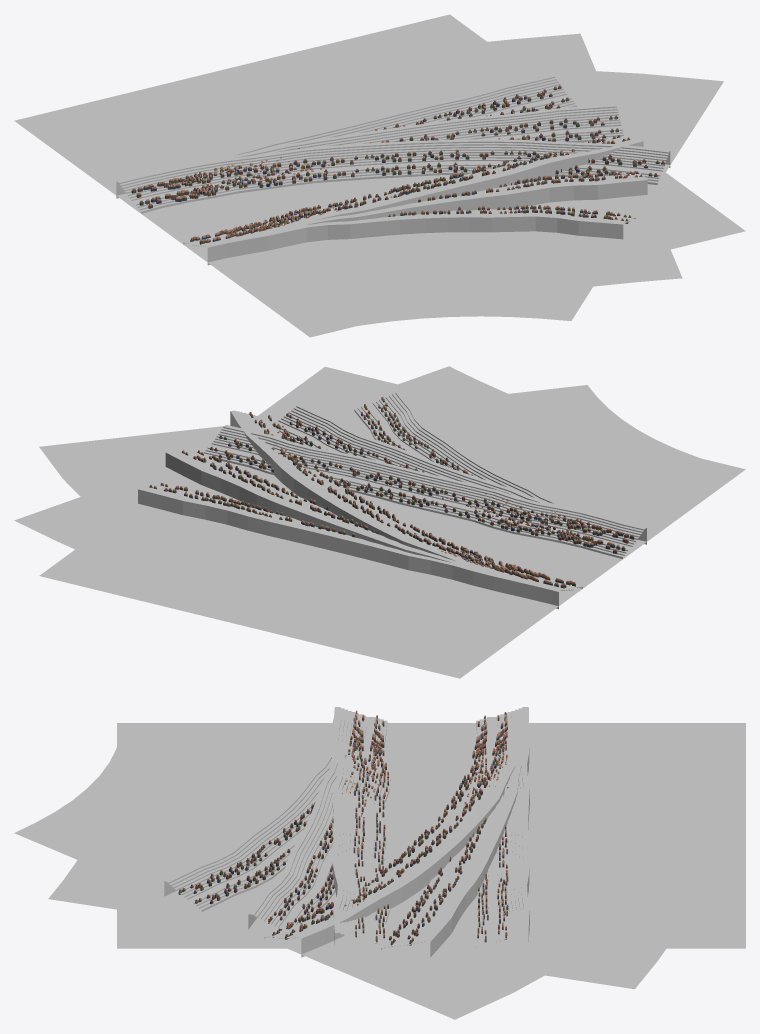
Rendered from SimplePatches.FBX.
3 views of the same model, one above another, from view 1: azimuth 30°, elevation 25°; view 2: azimuth 150°, elevation 25°; view 3: azimuth 270°, elevation 25° (orthographic). The views are drawn at different scales.
Visible parts, largest first — view 1: Plane-45Deg001, Plane-Simple_003, Plane-Simple_02, Stage-45Deg001, Stage-Straight001, Stage-Straight, Road45Deg001, Audience-45Deg001, Audience-Straight, Audience-Straight001, RoadSimple-003, RoadSimple-02; view 2: Plane-45Deg001, Plane-Simple_02, Plane-Simple_003, Stage-Straight, Stage-45Deg001, Stage-Straight001, Audience-Straight, Road45Deg001, Audience-45Deg001, Audience-Straight001, RoadSimple-02, RoadSimple-003; view 3: Plane-45Deg001, Plane-Simple_02, Plane-Simple_003, Stage-45Deg001, Stage-Straight, Stage-Straight001, Road45Deg001, RoadSimple-02, Audience-45Deg001, RoadSimple-003, Audience-Straight001, Audience-Straight.
Boxes of the visible parts, <box> form: Plane-45Deg001: <box>14,67,723,334</box>; Plane-Simple_003: <box>22,33,682,335</box>; Plane-Simple_02: <box>15,14,745,337</box>; Stage-45Deg001: <box>120,139,670,265</box>; Stage-Straight001: <box>116,104,647,247</box>; Stage-Straight: <box>119,74,643,247</box>; Road45Deg001: <box>181,174,658,245</box>; Audience-45Deg001: <box>133,149,664,243</box>; Audience-Straight: <box>131,85,630,244</box>; Audience-Straight001: <box>132,115,642,242</box>; RoadSimple-003: <box>145,185,384,245</box>; RoadSimple-02: <box>139,192,325,245</box>; Plane-45Deg001: <box>39,385,700,678</box>; Plane-Simple_02: <box>39,366,745,678</box>; Plane-Simple_003: <box>14,366,743,677</box>; Stage-Straight: <box>138,425,646,604</box>; Stage-45Deg001: <box>230,392,642,608</box>; Stage-Straight001: <box>165,404,646,591</box>; Audience-Straight: <box>149,435,634,588</box>; Road45Deg001: <box>278,411,620,589</box>; Audience-45Deg001: <box>249,397,631,587</box>; Audience-Straight001: <box>181,413,631,587</box>; RoadSimple-02: <box>501,535,624,590</box>; RoadSimple-003: <box>421,515,618,577</box>; Plane-45Deg001: <box>14,723,745,1019</box>; Plane-Simple_02: <box>117,723,745,948</box>; Plane-Simple_003: <box>48,723,744,989</box>; Stage-45Deg001: <box>164,707,528,957</box>; Stage-Straight: <box>332,707,529,947</box>; Stage-Straight001: <box>248,707,528,957</box>; Road45Deg001: <box>199,723,476,939</box>; RoadSimple-02: <box>385,723,476,808</box>; Audience-45Deg001: <box>178,712,506,939</box>; RoadSimple-003: <box>384,723,476,812</box>; Audience-Straight001: <box>268,711,507,946</box>; Audience-Straight: <box>353,710,508,943</box>.
Bounding box in the file's own units: 134 × 3.96 × 139.
